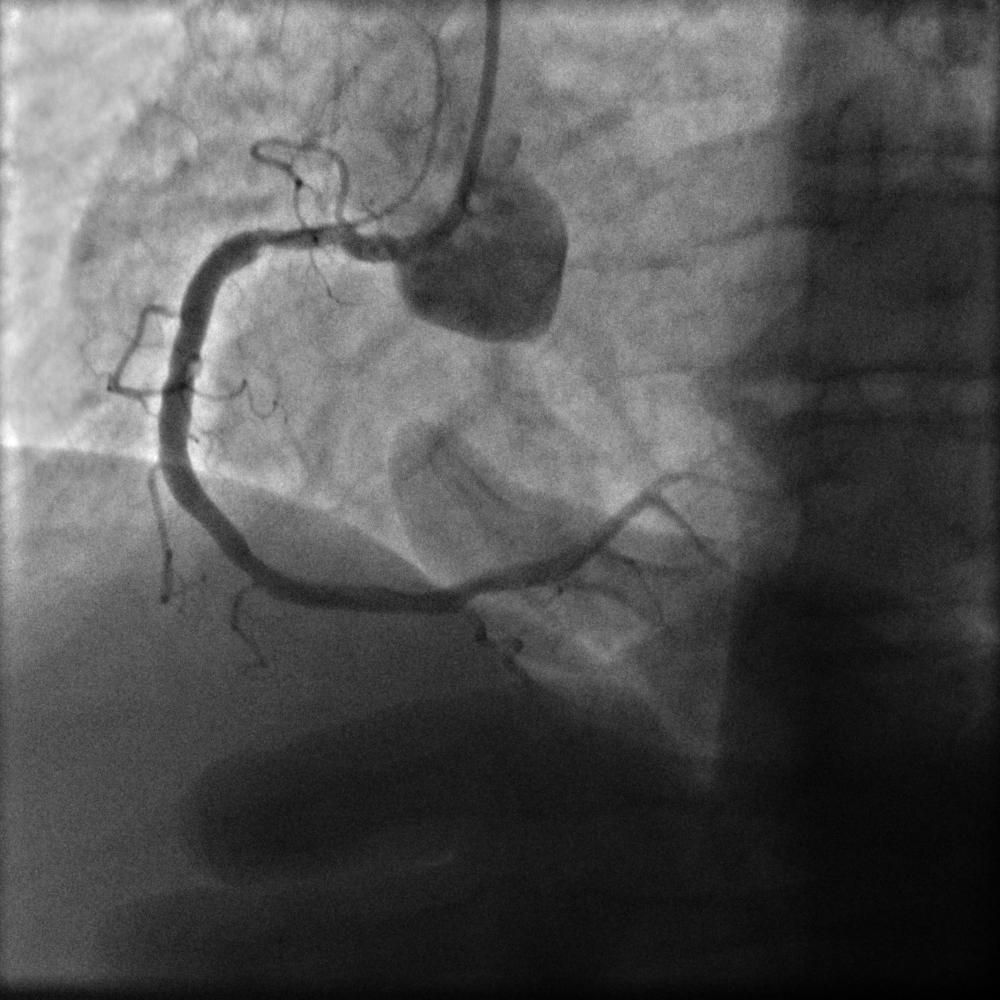Stenosis: (242, 212, 362, 267)
